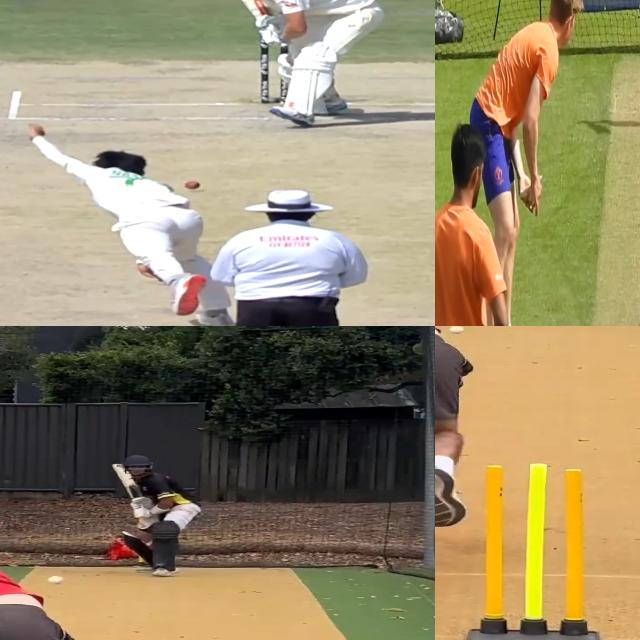Cricket ball: (183, 179, 203, 191), (46, 573, 65, 584), (447, 326, 465, 335)
Stumps: (466, 463, 603, 640)
